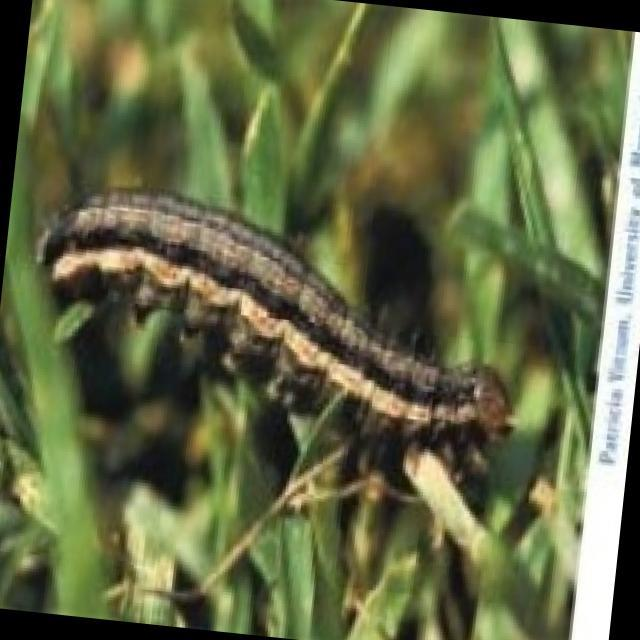Plaga: (10, 156, 545, 488)
